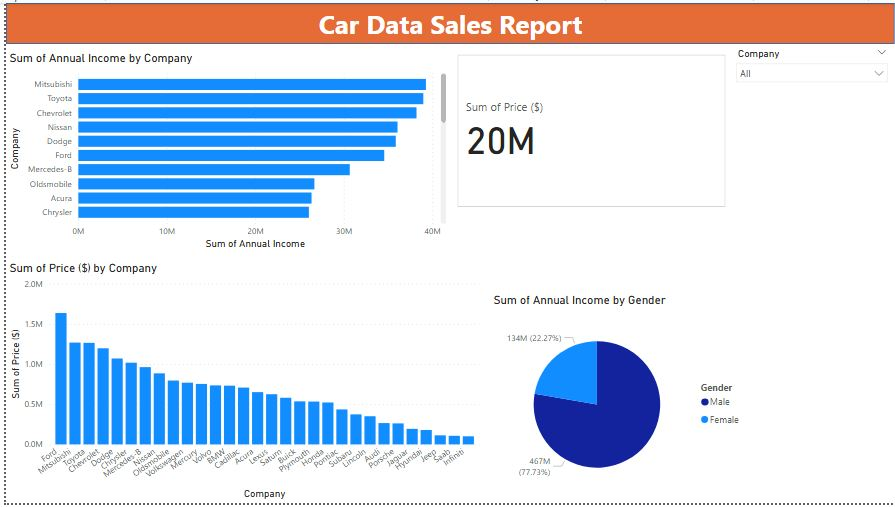

This screenshot's page, from the dashboard's own definition file:
{"tool":"powerbi","page":{"name":"Page 1","canvas":[1280,720],"ordinal":0},"visuals":[{"type":"shape","box":[0,0,1280.2,59],"z":0},{"type":"clusteredColumnChart","fields":{"Category":["car_data.Company"],"Y":["Sum(car_data.Price ($))"]},"box":[0,371.5,686.9,348.5],"z":1},{"type":"barChart","fields":{"Category":["car_data.Company"],"Y":["Sum(car_data.Annual Income)"]},"box":[0,69.1,639.4,290.9],"z":2},{"type":"pieChart","fields":{"Category":["car_data.Gender"],"Y":["Sum(car_data.Annual Income)"]},"box":[697,417.6,374.4,302.4],"z":3},{"type":"slicer","fields":{"Values":["car_data.Company"]},"box":[1041.1,59,239,240.5],"z":4},{"type":"cardVisual","fields":{"Data":["Sum(car_data.Price ($))"]},"box":[645.1,69.1,396,230.4],"z":5}]}

Visuals, with their boxes in screenshot pixels (x1, y1, x2, y2), scaled from the page's 1280x720 canvas onto the 895x507 screenshot:
shape: <region>0, 0, 894, 42</region>
clusteredColumnChart - car_data.Company x Sum(car_data.Price ($)): <region>0, 262, 480, 506</region>
barChart - car_data.Company x Sum(car_data.Annual Income): <region>0, 49, 447, 254</region>
pieChart - car_data.Gender x Sum(car_data.Annual Income): <region>487, 294, 749, 506</region>
slicer - car_data.Company: <region>728, 42, 894, 211</region>
cardVisual - Sum(car_data.Price ($)): <region>451, 49, 728, 211</region>
